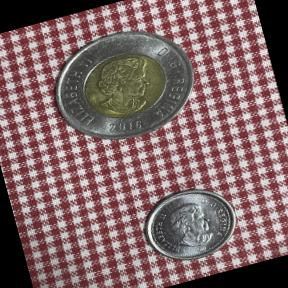Canada-10cent-B: (131, 174, 248, 274)
Canada-2Dollar-B: (37, 13, 212, 162)
